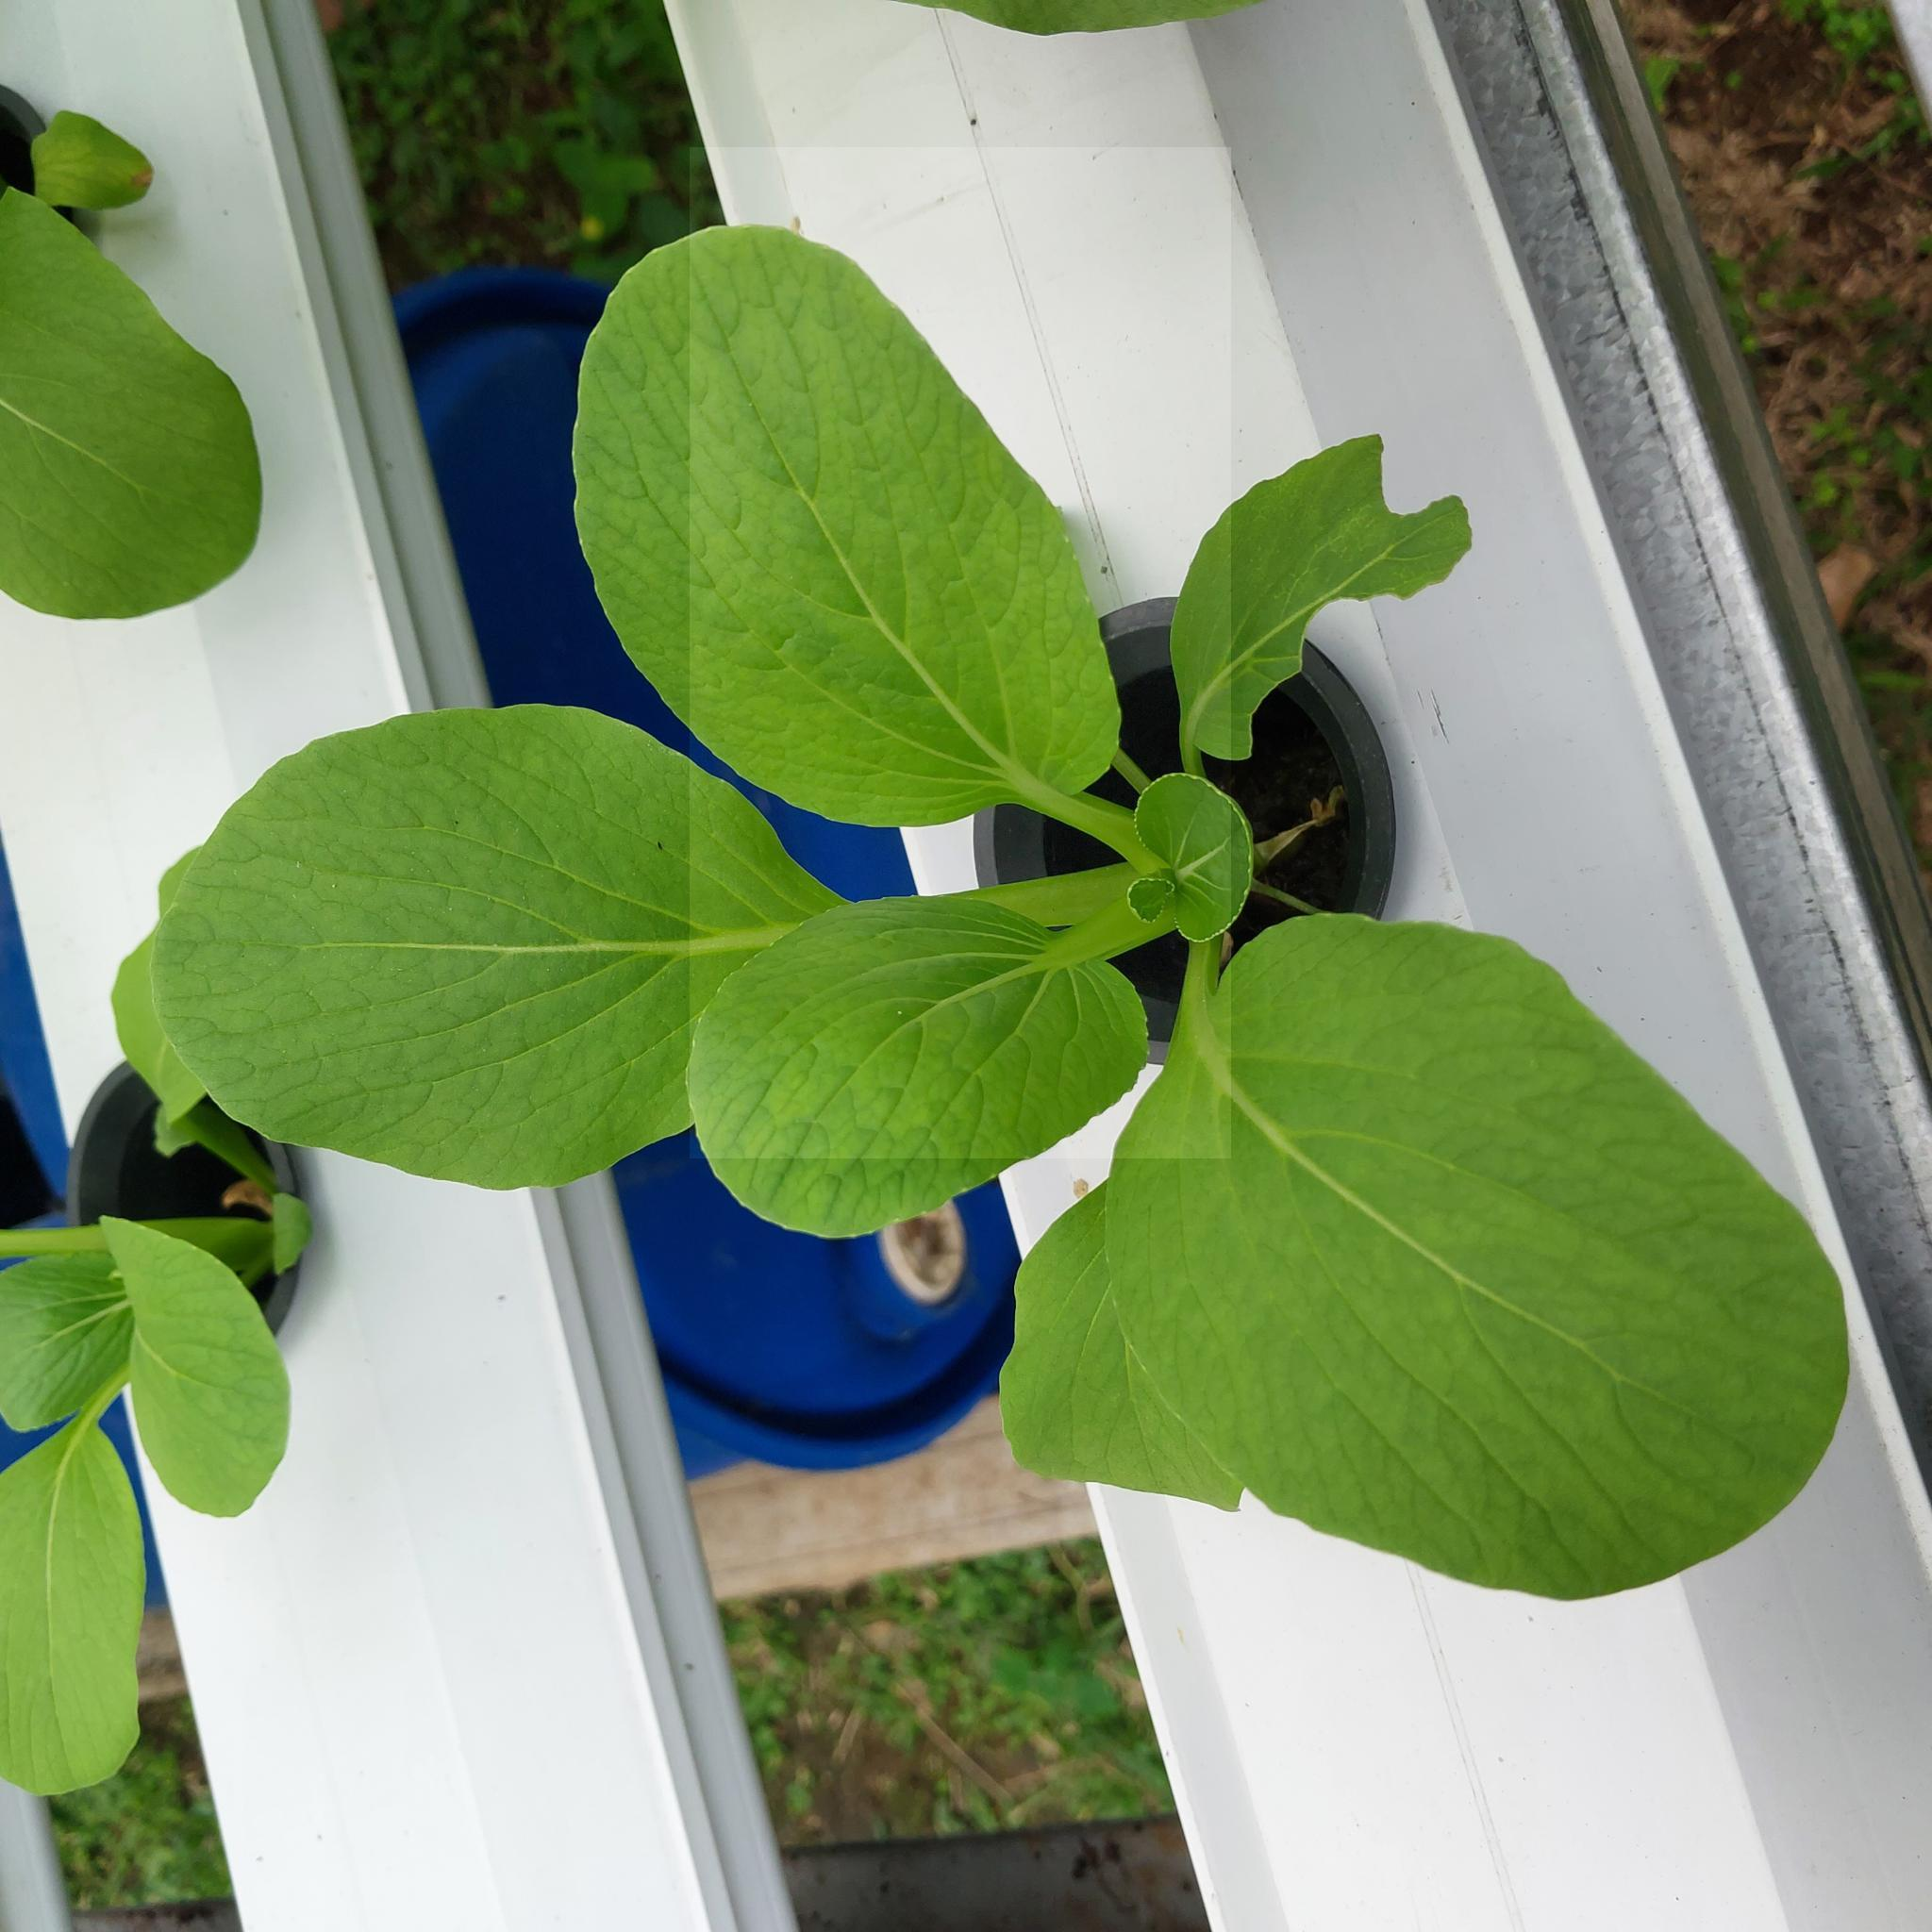Healthy-Pechay: (1042, 929, 1838, 1591), (580, 223, 1069, 824), (152, 725, 794, 1175), (697, 904, 1109, 1228), (1168, 430, 1483, 780), (4, 202, 258, 619), (1000, 1159, 1207, 1514), (111, 863, 326, 1168), (0, 1398, 147, 1805), (101, 1215, 295, 1522), (2, 1246, 140, 1437), (30, 110, 156, 212), (1353, 494, 1472, 598)
